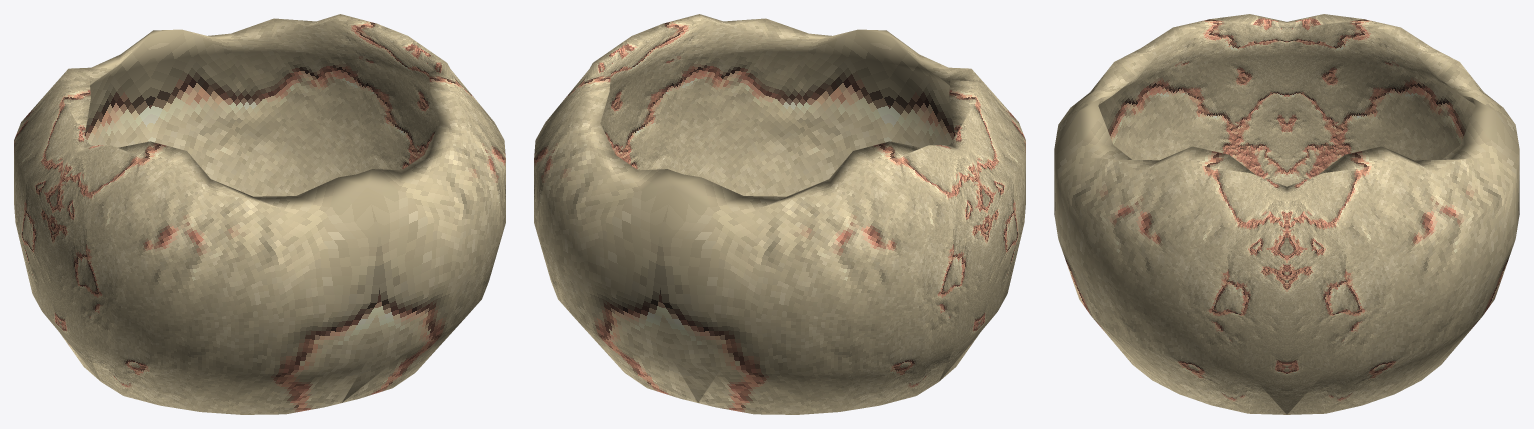
Rendered from pot_half_broken.glb.
3 renders of one model, left to right at view 1: azimuth 30°, elevation 25°; view 2: azimuth 150°, elevation 25°; view 3: azimuth 270°, elevation 25°, orthographic. The views are drawn at different scales.
Visible parts, largest first — view 1: Pot.001; view 2: Pot.001; view 3: Pot.001.
Boxes of the visible parts, x1,y1,x2,y2 form: Pot.001: (14,14,505,414); Pot.001: (534,14,1025,414); Pot.001: (1054,14,1519,414).
Bounding box in the file's own units: 1.09 × 0.6481 × 1.09.
1 material, 1 textured.
